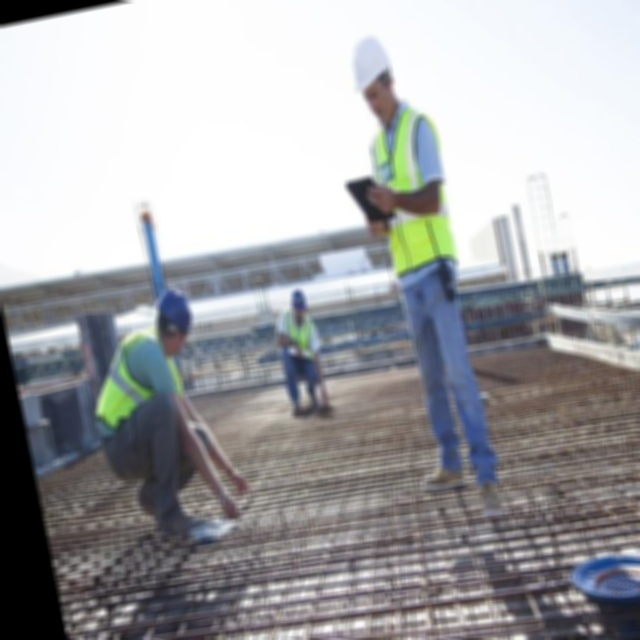Con_Casco: (344, 33, 400, 115), (288, 288, 310, 328)
Con_Chaleco: (362, 106, 462, 283), (78, 325, 187, 438)
